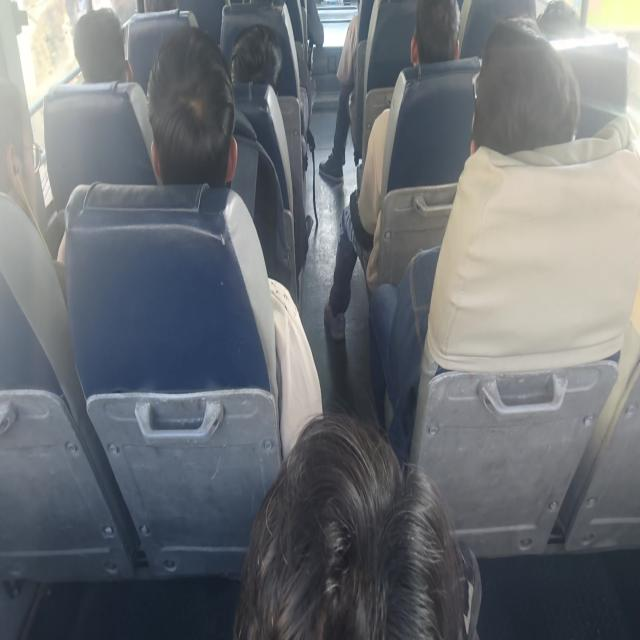person: (368, 14, 581, 471), (146, 26, 323, 459), (233, 410, 482, 638), (323, 0, 461, 341), (318, 0, 417, 184), (146, 27, 238, 187), (0, 78, 64, 264), (318, 1, 362, 184), (72, 6, 133, 84), (230, 24, 282, 92)
